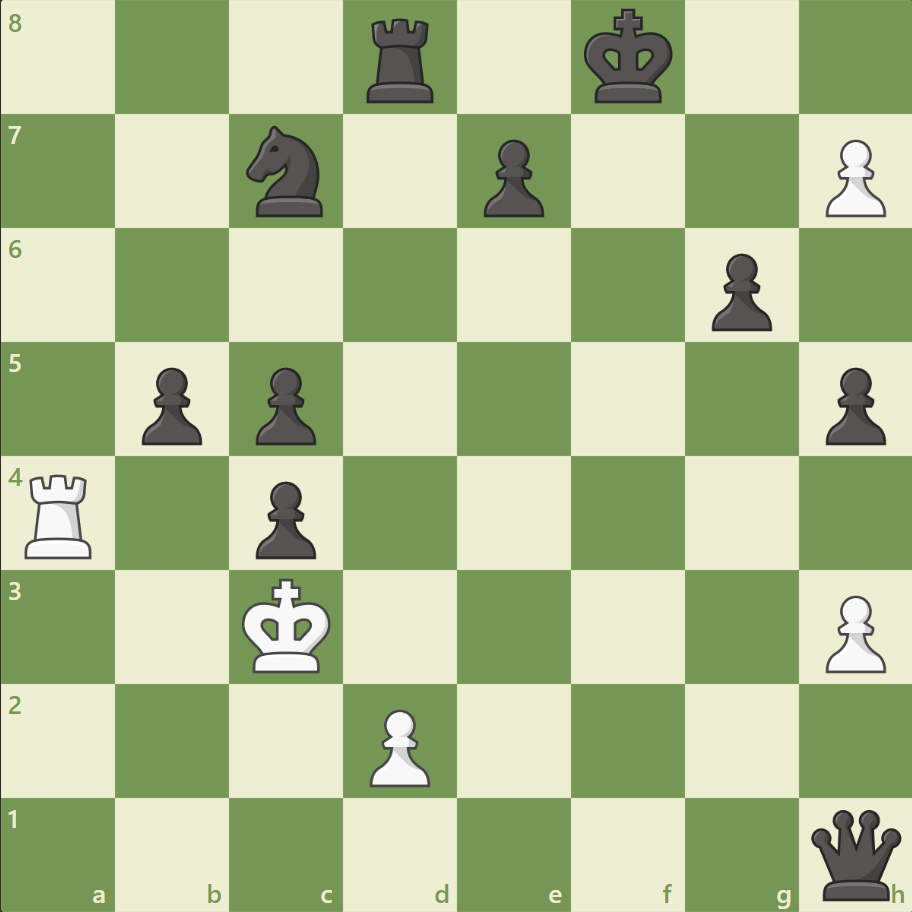K: (238, 571, 338, 679)
P: (815, 132, 889, 223), (815, 586, 889, 677), (361, 700, 435, 791)
R: (19, 466, 102, 563)
k: (579, 4, 679, 112)
n: (238, 121, 335, 223)
p: (474, 132, 549, 223), (701, 246, 776, 337), (133, 359, 208, 450), (247, 359, 322, 450), (247, 473, 322, 564), (815, 359, 889, 450)
q: (805, 804, 904, 903)
r: (360, 12, 442, 109)
